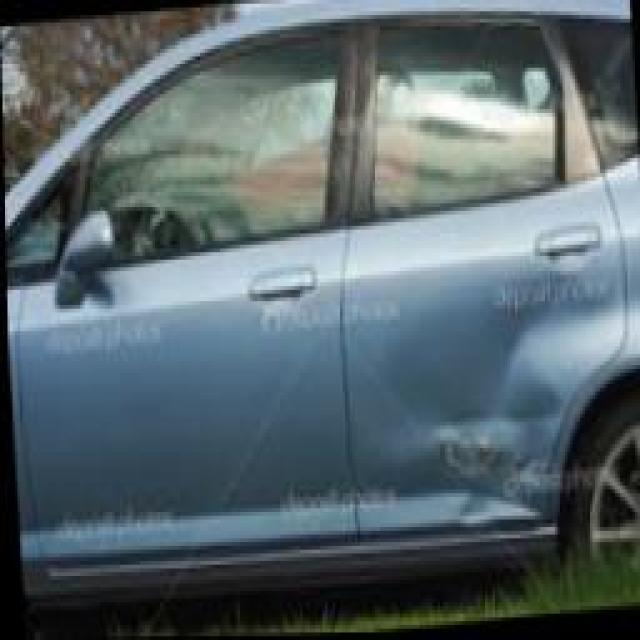Door: (355, 282, 626, 581)
